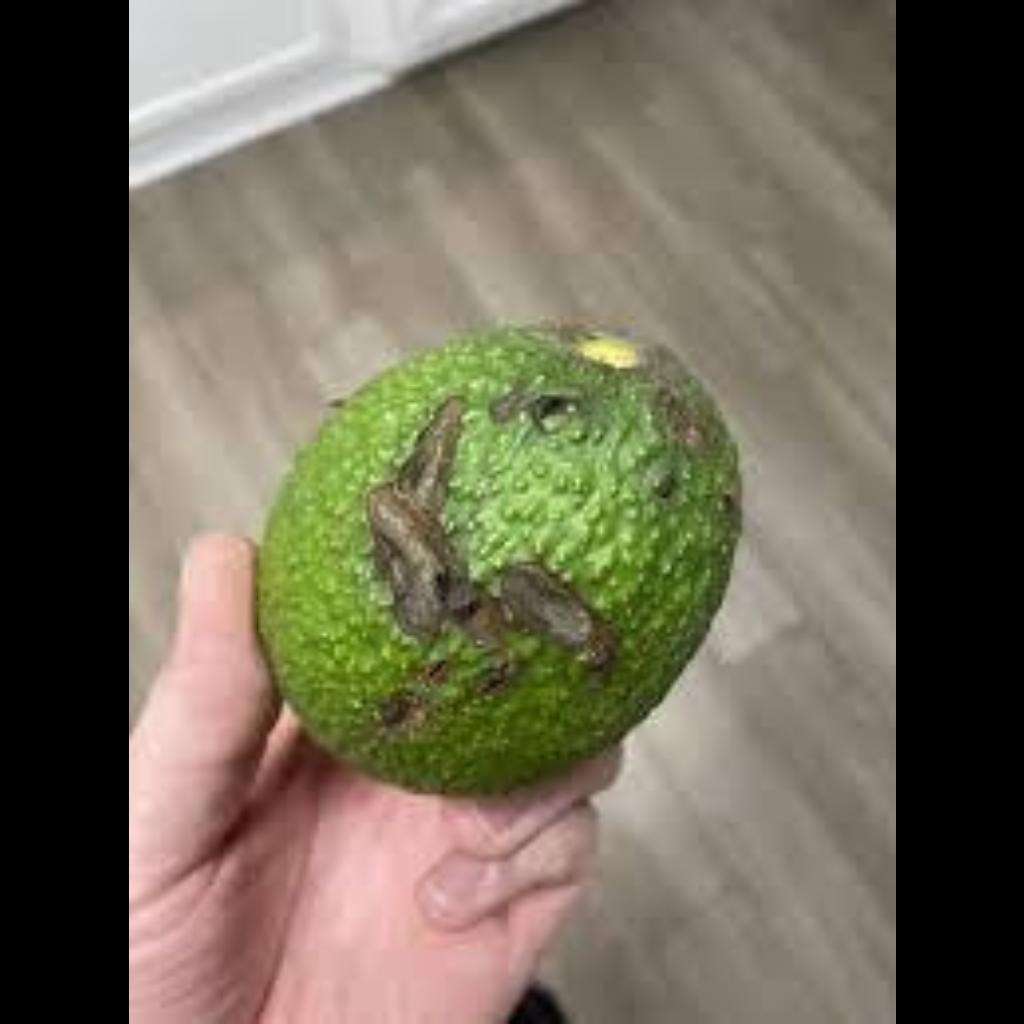cercospora_spot: (247, 324, 745, 760)
